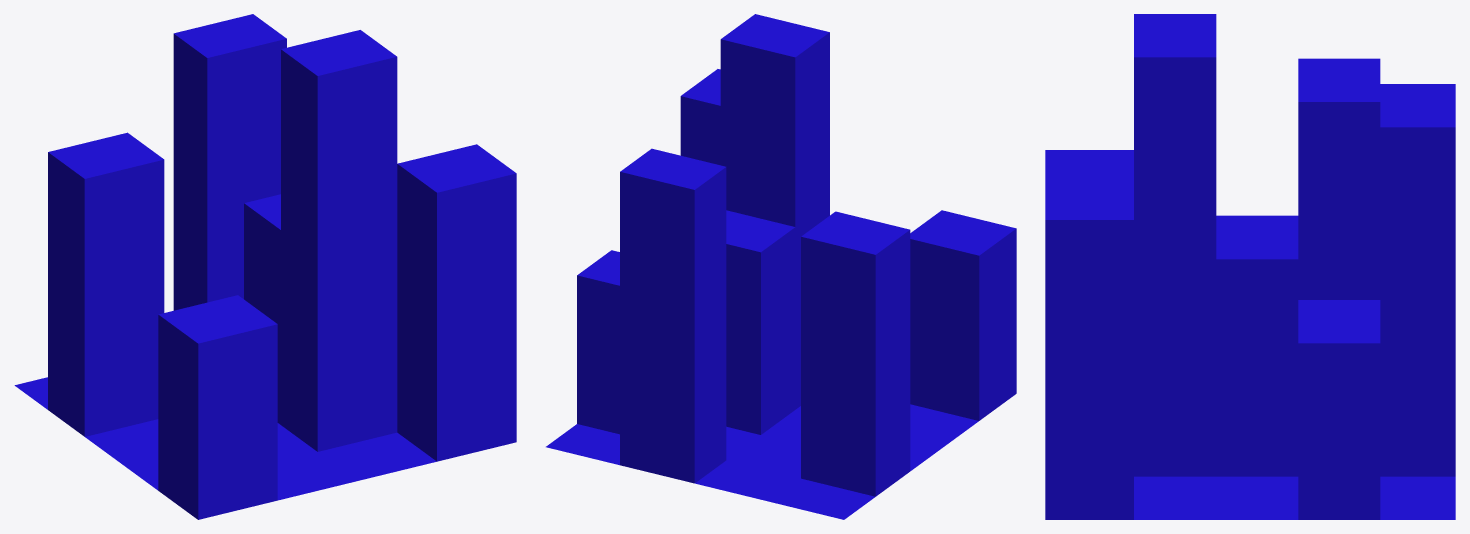
The model's file is edificios.fbx.
3 views of the same model, side by side, from view 1: azimuth 30°, elevation 25°; view 2: azimuth 150°, elevation 25°; view 3: azimuth 270°, elevation 25° (orthographic). The views are drawn at different scales.
Parts seen in each view (by area): view 1: Plane; view 2: Plane; view 3: Plane.
Boxes of the visible parts, bbox=[...] form: Plane: bbox=[14, 14, 516, 519]; Plane: bbox=[546, 14, 1016, 519]; Plane: bbox=[1045, 14, 1455, 519].
Size of the model in its own units: 382 by 431 by 382.
